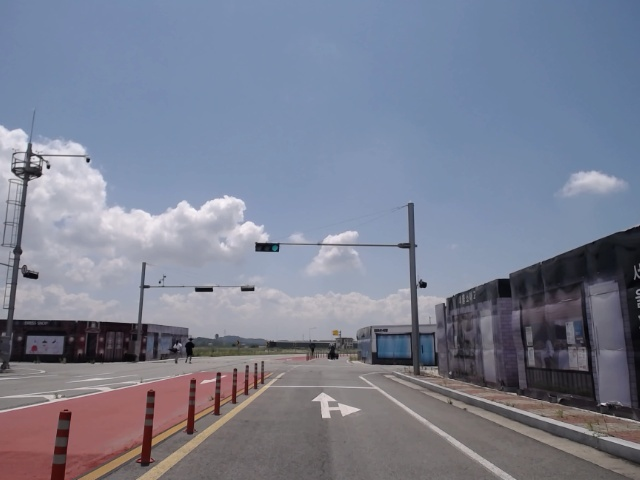green_3: (255, 243, 279, 252)
